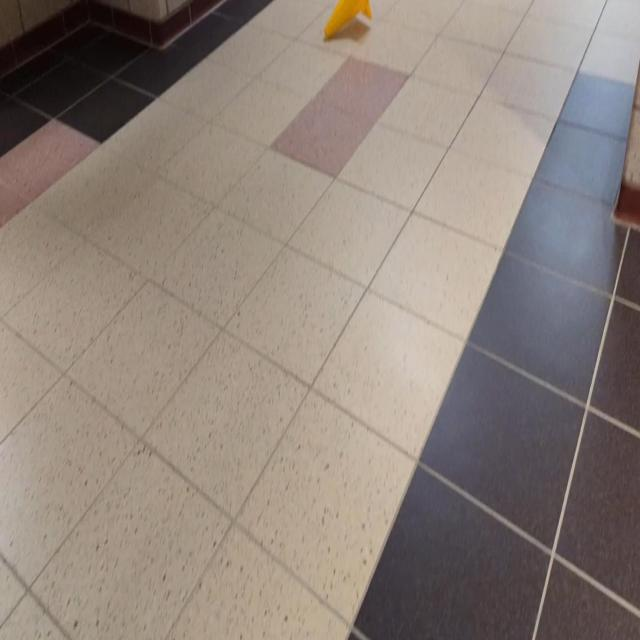frc_cone: (324, 0, 372, 41)
